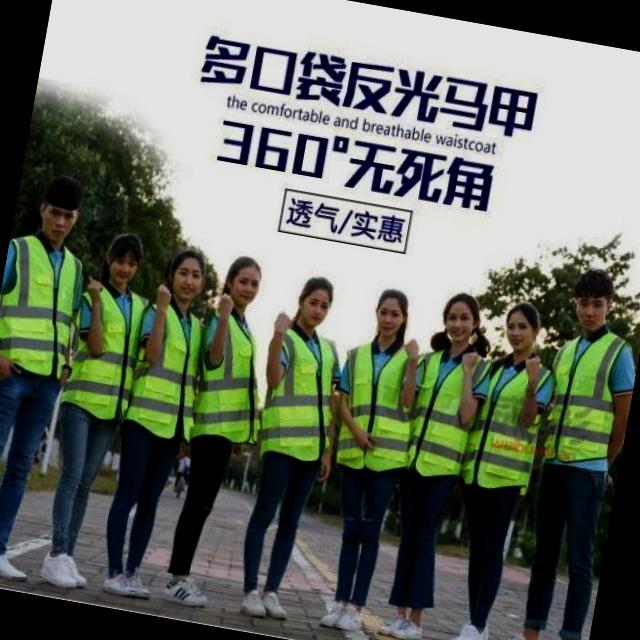vest: (466, 356, 546, 490), (337, 341, 413, 473), (61, 288, 138, 411), (128, 308, 200, 438), (254, 336, 332, 454), (0, 247, 73, 369), (544, 333, 614, 460), (403, 354, 472, 482), (194, 316, 260, 438)
